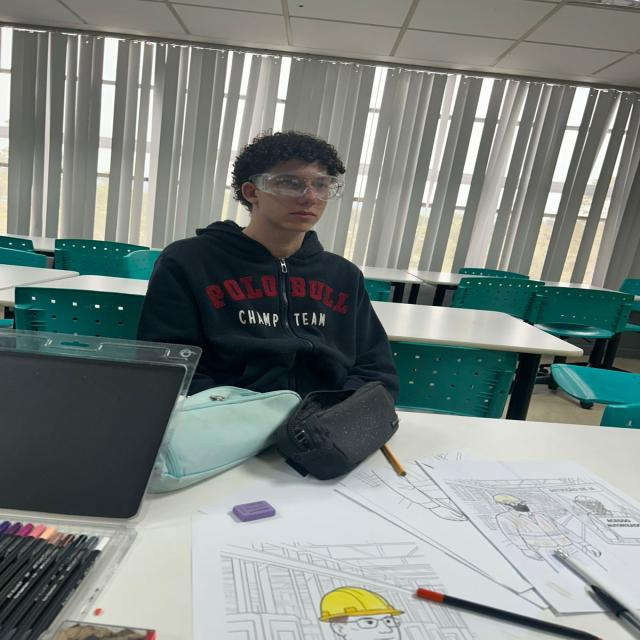oculos-epi: (247, 171, 347, 201)
